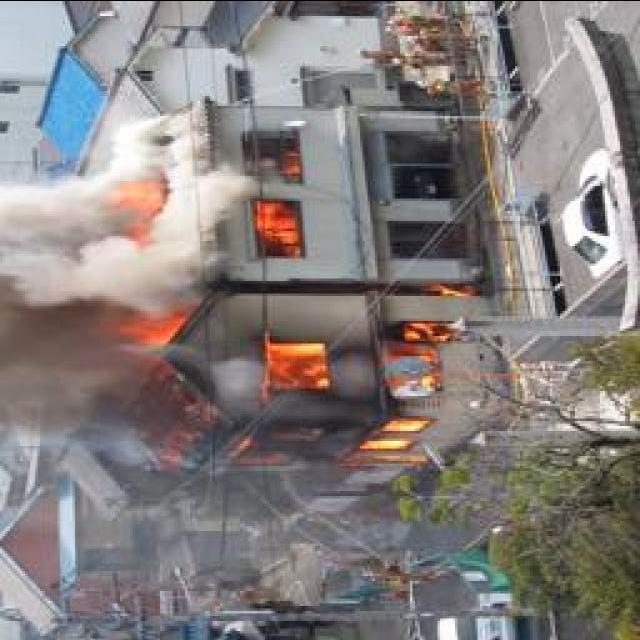Fire: (226, 277, 472, 469), (128, 376, 160, 420)
